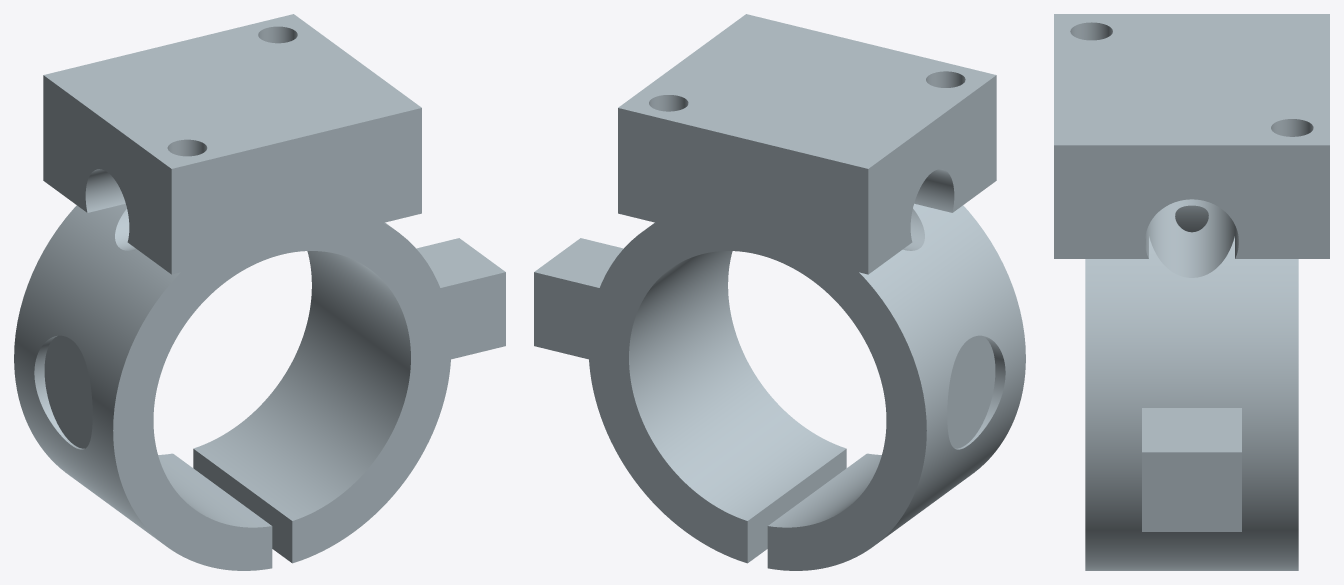
The picture shows the model from 3 angles, left to right: view 1: azimuth 30°, elevation 25°; view 2: azimuth 150°, elevation 25°; view 3: azimuth 270°, elevation 25°; orthographic projection. The views are drawn at different scales.
Size of the model in its own units: 0.0415 by 0.0415 by 0.022.
